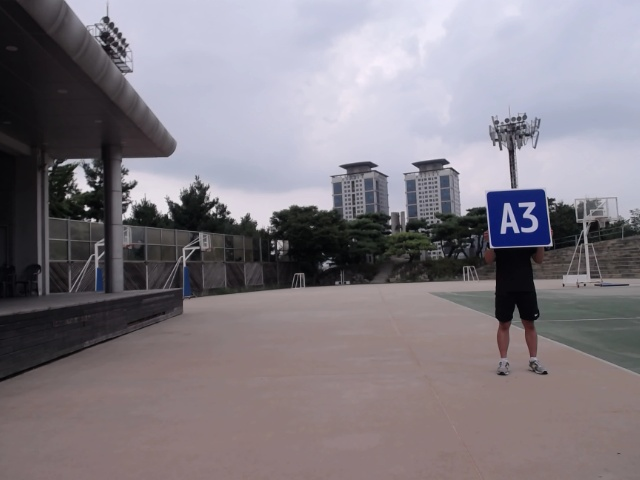delivery_a3: (486, 188, 552, 248)
